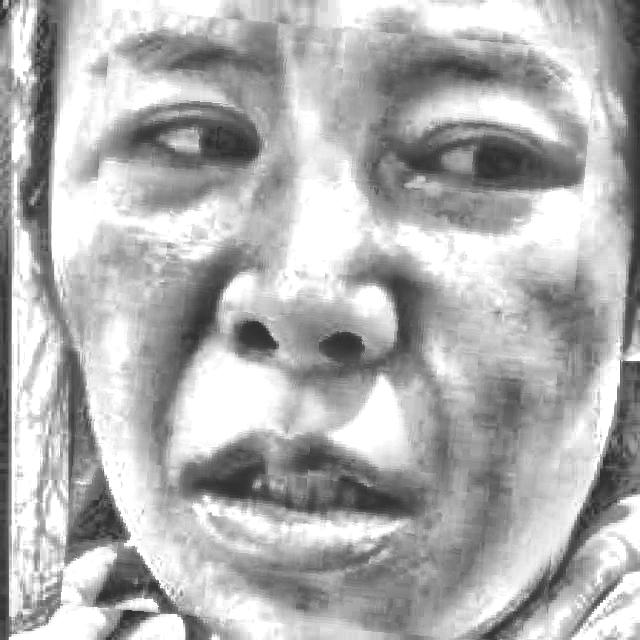fear: (72, 19, 582, 637)
